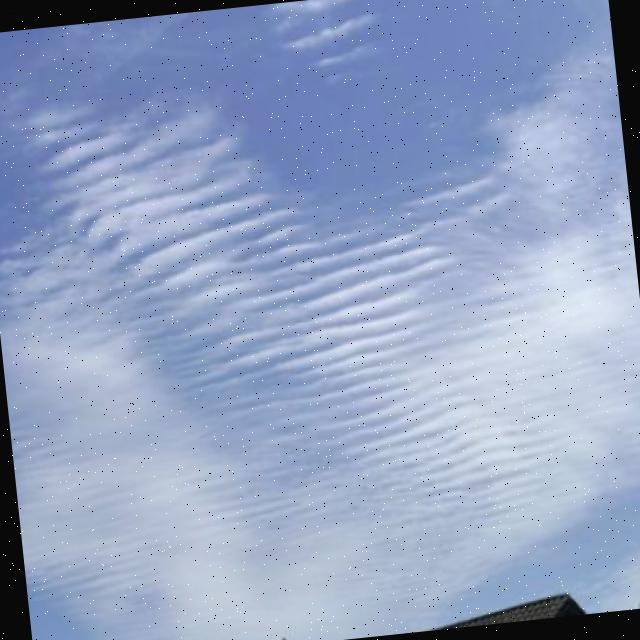Cc: (1, 28, 609, 590)
